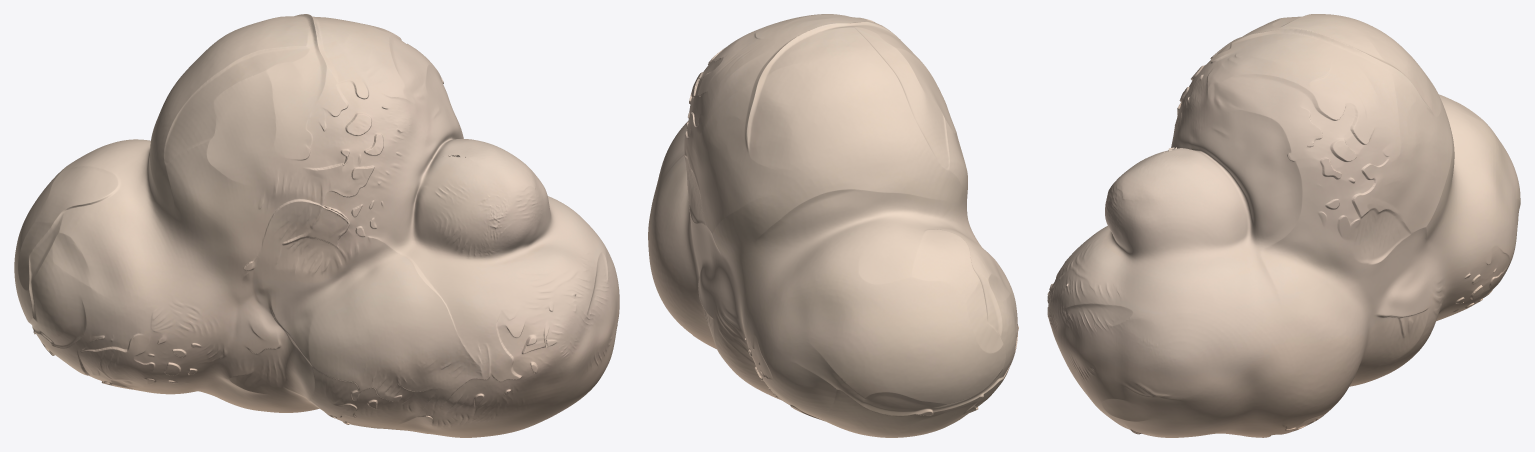
Rendered from puffy cloud 3d model.glb.
The picture shows the model from 3 angles, left to right: view 1: azimuth 30°, elevation 25°; view 2: azimuth 150°, elevation 25°; view 3: azimuth 270°, elevation 25°; orthographic projection. The views are drawn at different scales.
Parts seen in each view (by area): view 1: tripo_node_0776fc0b-51ae-4935-b36d-617482b2e57b; view 2: tripo_node_0776fc0b-51ae-4935-b36d-617482b2e57b; view 3: tripo_node_0776fc0b-51ae-4935-b36d-617482b2e57b.
Boxes of the visible parts, <box> form: tripo_node_0776fc0b-51ae-4935-b36d-617482b2e57b: <box>14,14,619,437</box>; tripo_node_0776fc0b-51ae-4935-b36d-617482b2e57b: <box>648,14,1018,437</box>; tripo_node_0776fc0b-51ae-4935-b36d-617482b2e57b: <box>1047,14,1520,437</box>.
Size of the model in its own units: 0.9794 by 0.7741 by 0.924.
Materials: 1 (1 with a texture image).
